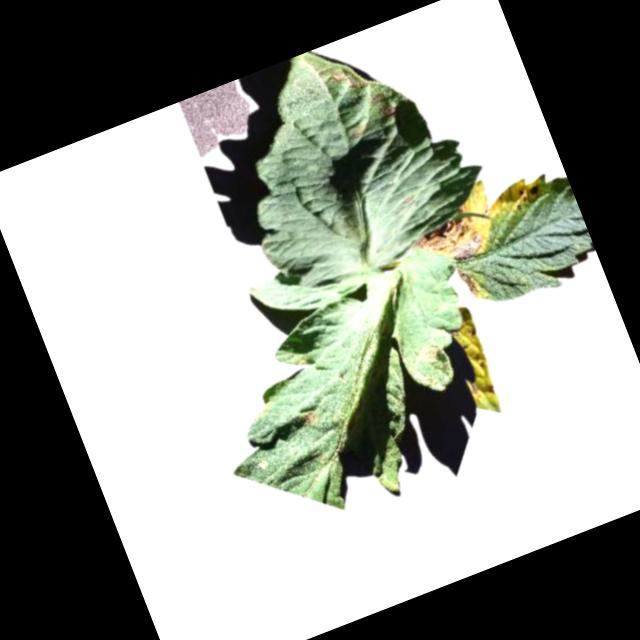Early_blight: (405, 197, 492, 275), (327, 61, 368, 97), (368, 87, 397, 119), (451, 263, 479, 295), (468, 373, 498, 401), (519, 174, 546, 201), (414, 341, 441, 367), (295, 406, 320, 429)
